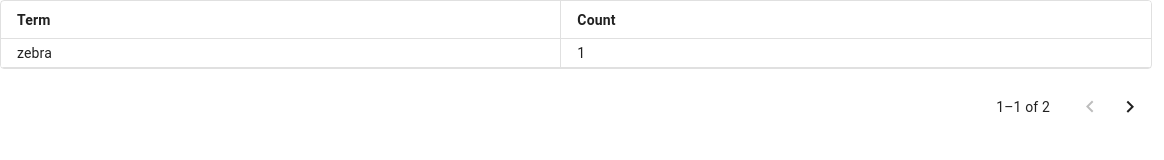
Test case: ResearchResultsTable › sorts and paginates analysis rows
Check: the text "zebra" is shown, box [17,45,52,61]
Step 1. Click the button "Term" → (34, 20), box [17,12,50,28]
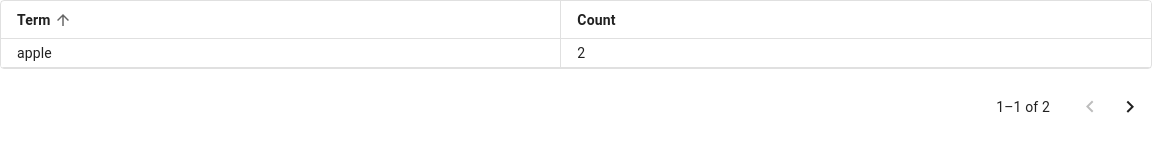
Check: the text "apple" is shown, box [17,45,52,61]
Step 2. Click the button named "Go to next page" → (1130, 107), box [1110,87,1150,127]
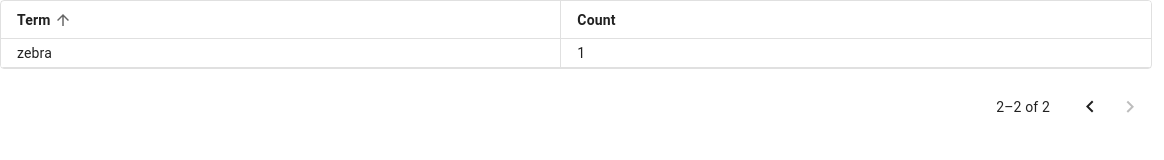
Check: the text "zebra" is shown, box [17,45,52,61]
